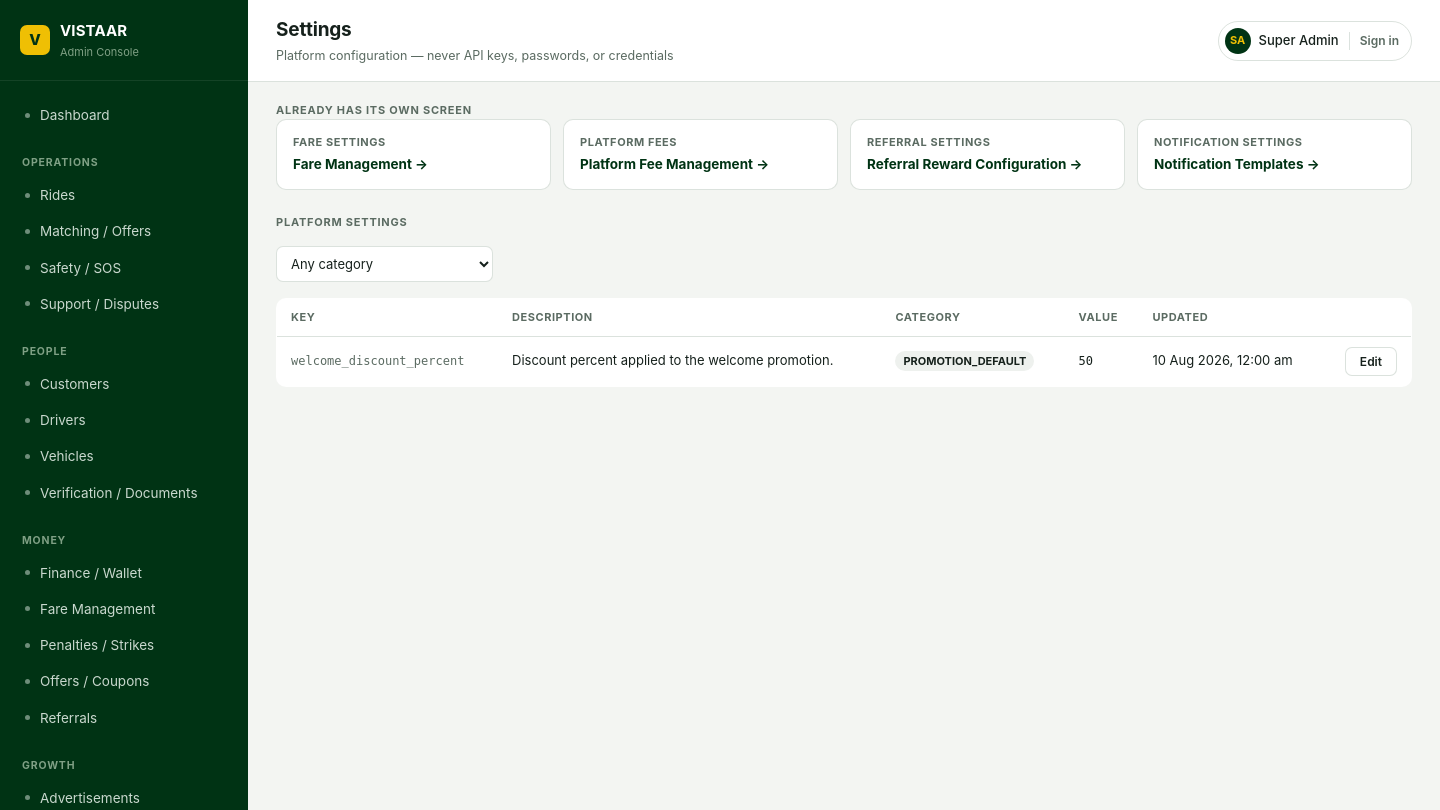
SettingsPage › edits a setting's value and saves it
Click the button "Edit". click: [1371, 361]
box: [1345,346,1397,376]
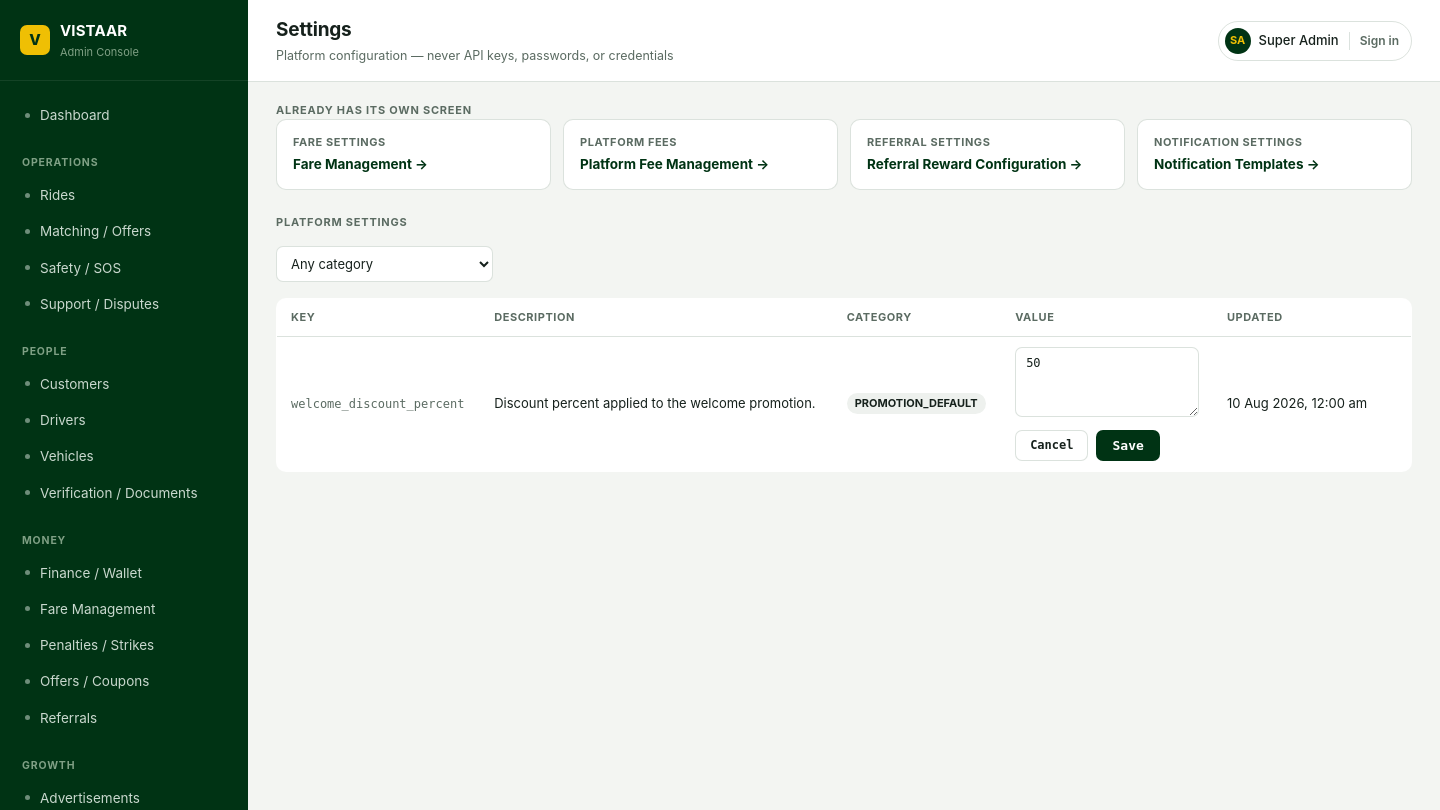
Replace the text in the text box named "Value for welcome_discount_percent" with "60". click: [1107, 382]
box: [1015,346,1199,416]
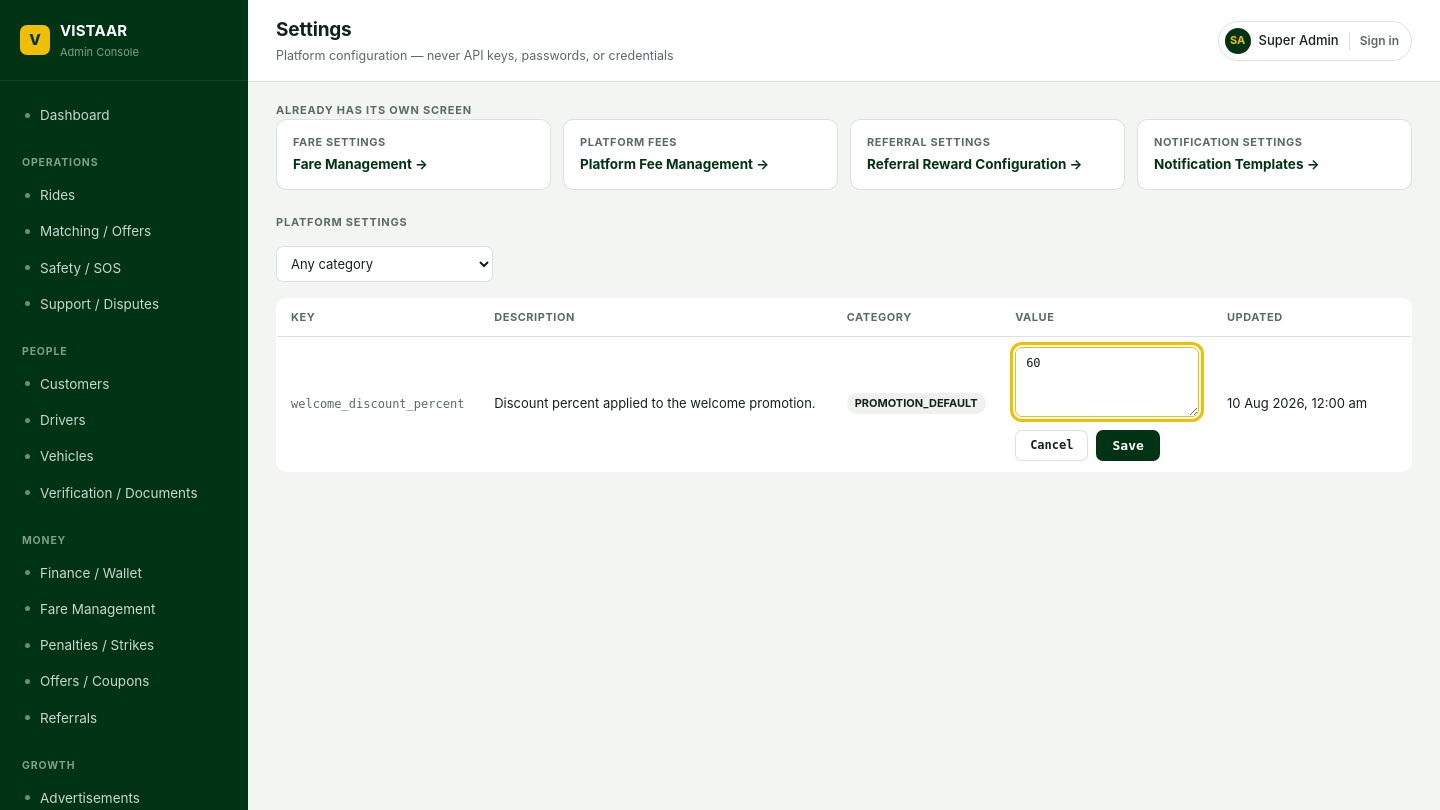
Click the button "Save". click: [1128, 445]
box: [1096,430,1160,460]
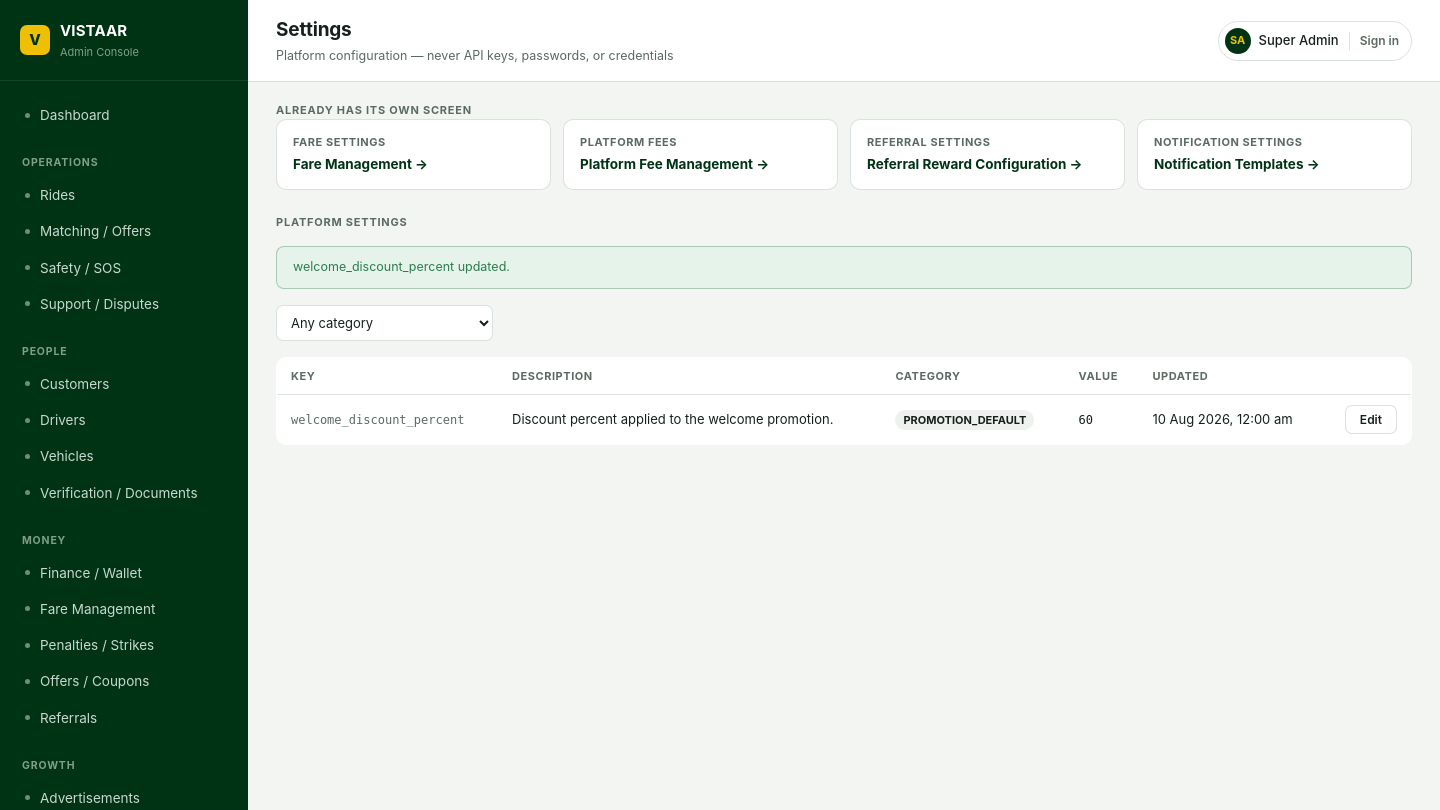
Check: the text "welcome_discount_percent updated." is shown, box [276,246,1412,289]
